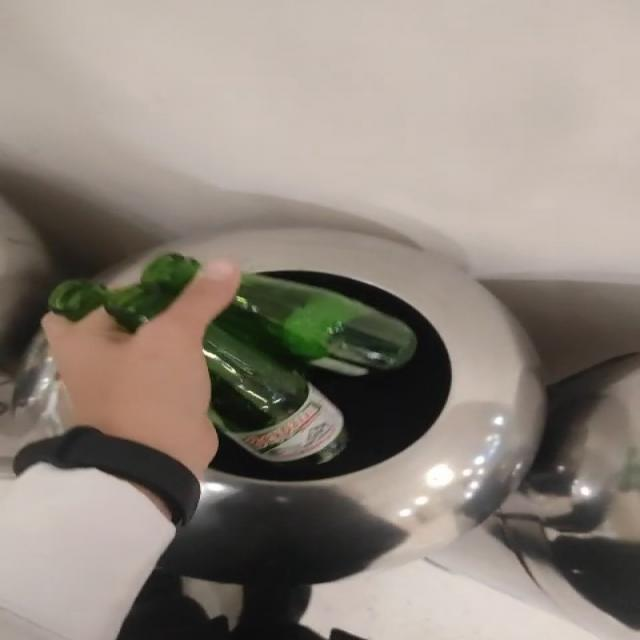glass: (203, 274, 417, 463), (49, 253, 199, 331)
